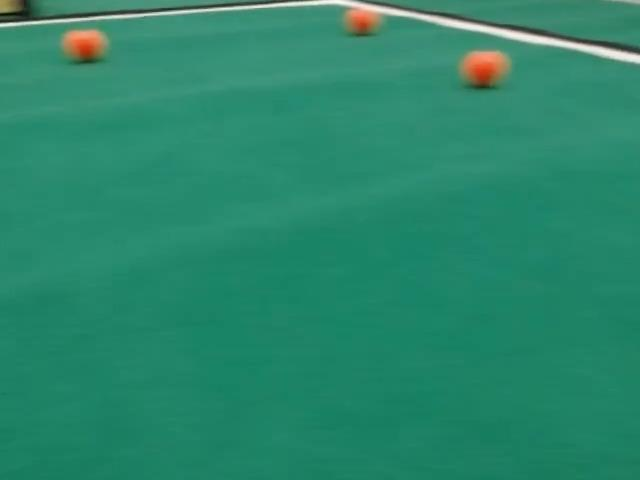Ball: (459, 51, 510, 87), (62, 29, 107, 62), (344, 8, 381, 35)
